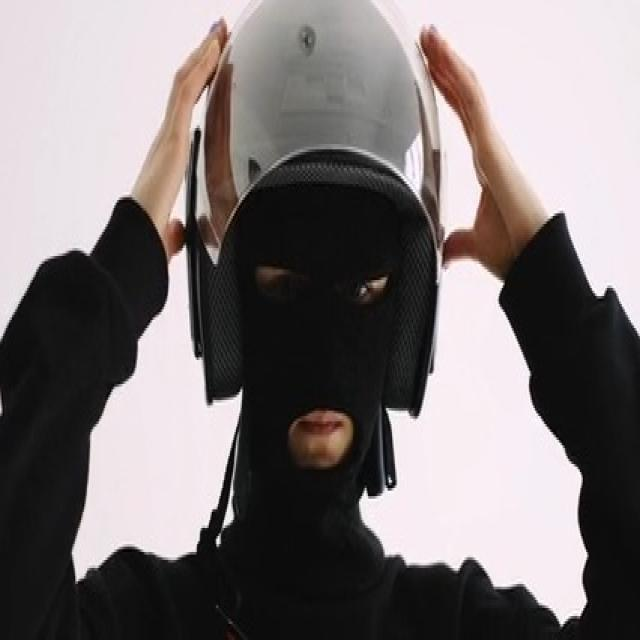Helmet_Wearer: (146, 2, 498, 616)
Person: (6, 0, 625, 637)
